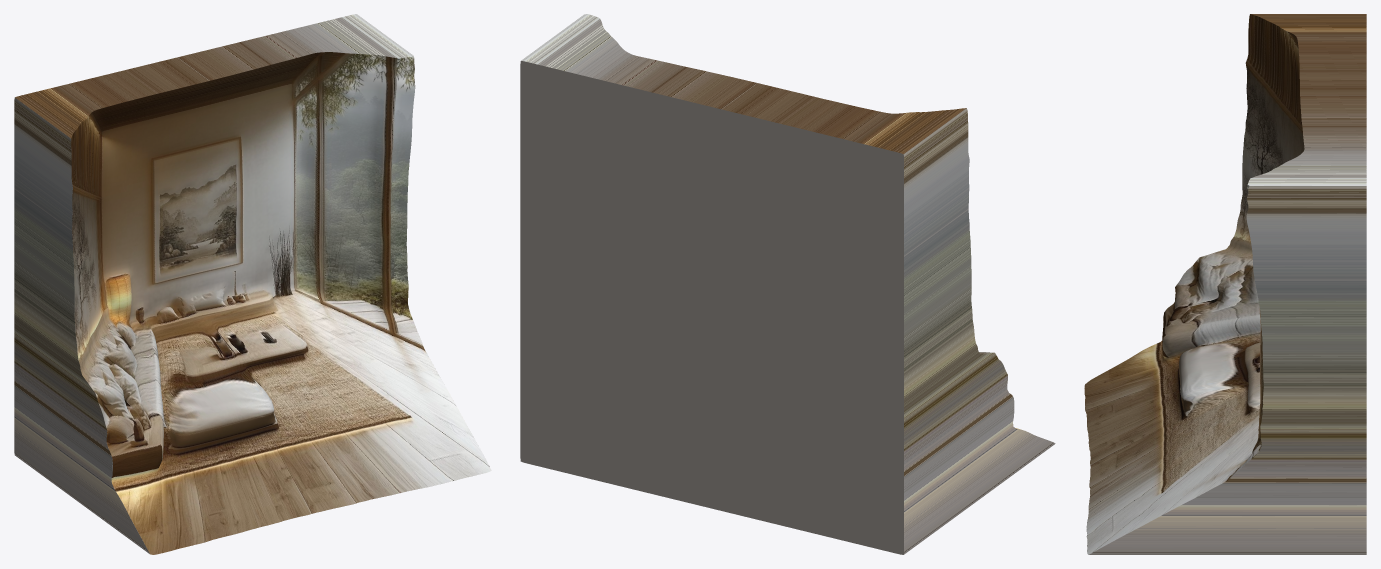
3 renders of one model, left to right at view 1: azimuth 30°, elevation 25°; view 2: azimuth 150°, elevation 25°; view 3: azimuth 270°, elevation 25°, orthographic. The views are drawn at different scales.
Parts seen in each view (by area): view 1: ImagePlane; view 2: ImagePlane; view 3: ImagePlane.
Boxes of the visible parts, bbox=[...] form: ImagePlane: bbox=[14, 14, 491, 554]; ImagePlane: bbox=[520, 14, 1055, 554]; ImagePlane: bbox=[1084, 14, 1366, 554].
Size of the model in its own units: 99.34 by 99.34 by 68.67.
1 material, 1 textured.
